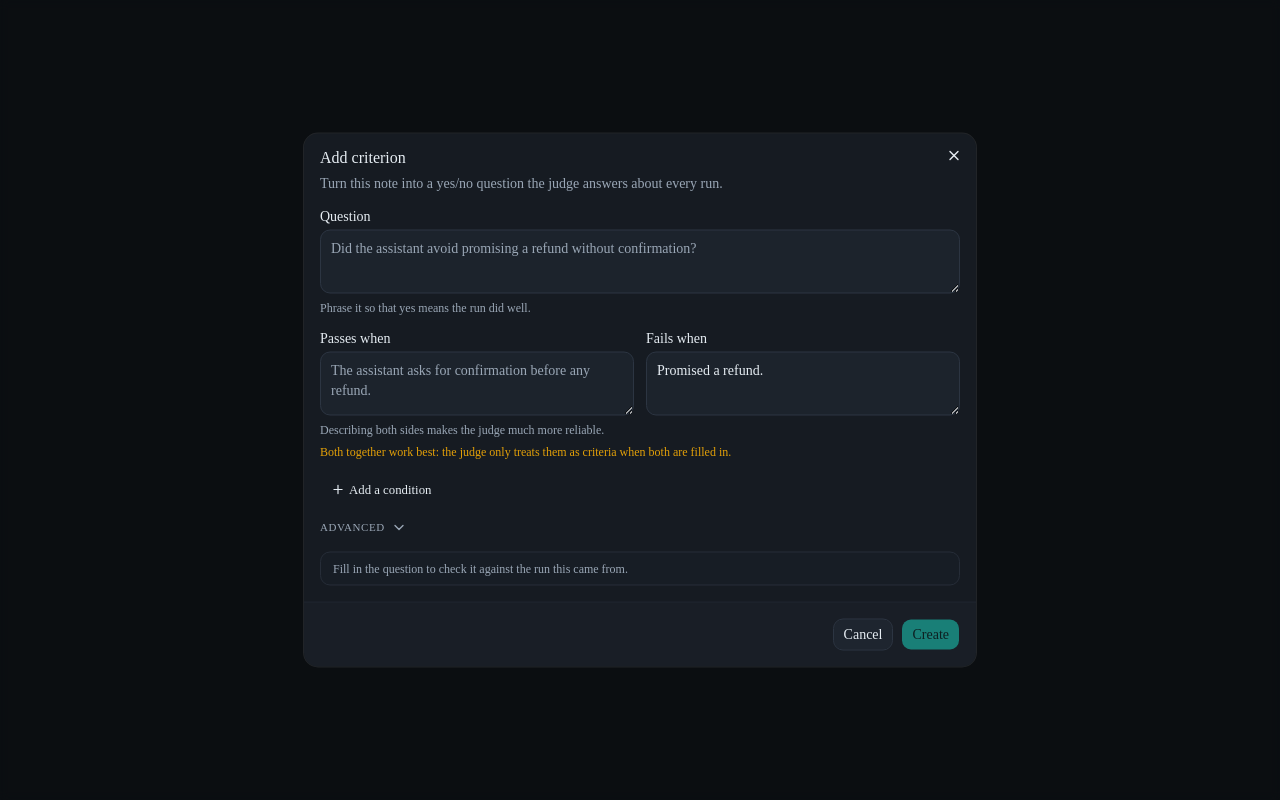
Test: CriterionDialog promoted from a fix draft › shows a muted note when the check request itself fails
The width and height of the screenshot is (1280, 800).
Replace the text in the text box labelled "Question" with "Q?" at [640, 262], box [320,230,960,294]
Wait 800 ms
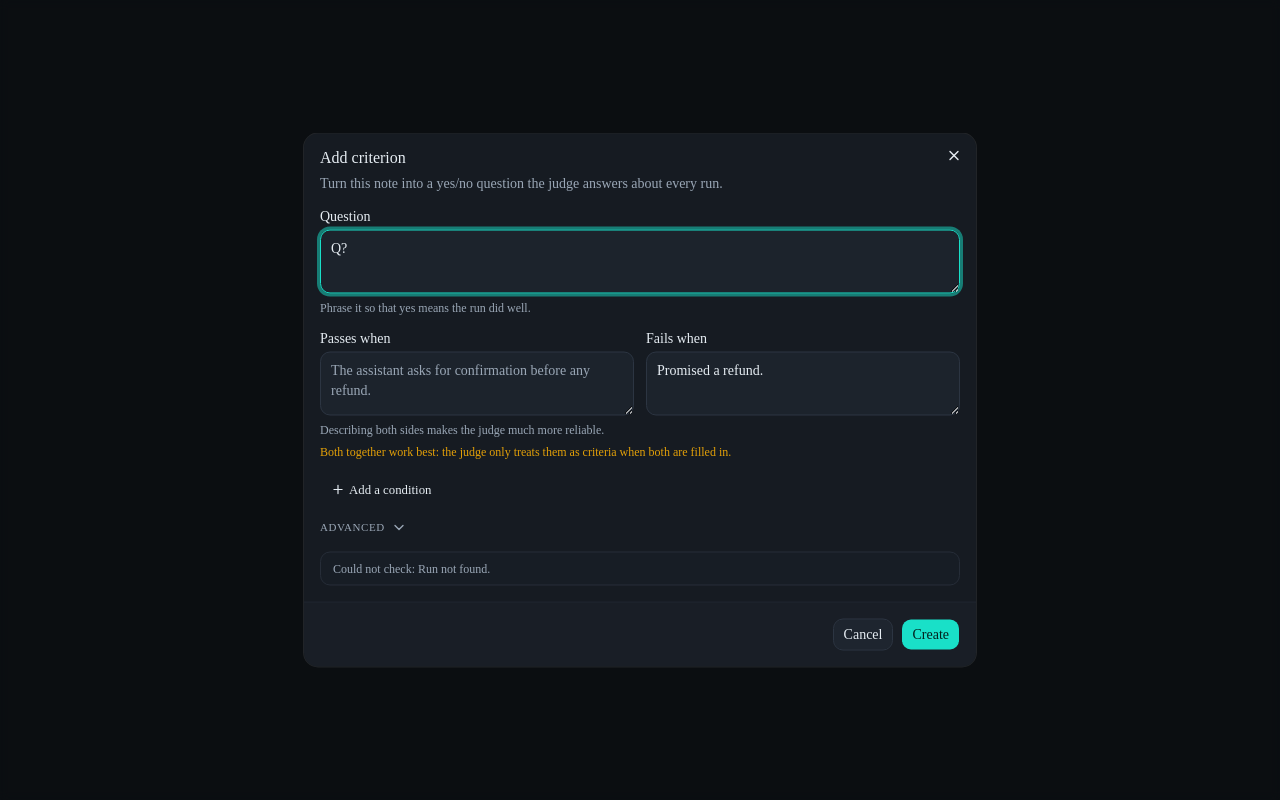
Expected: the text "Could not check: Run not found." is shown, [333,562,490,576]
